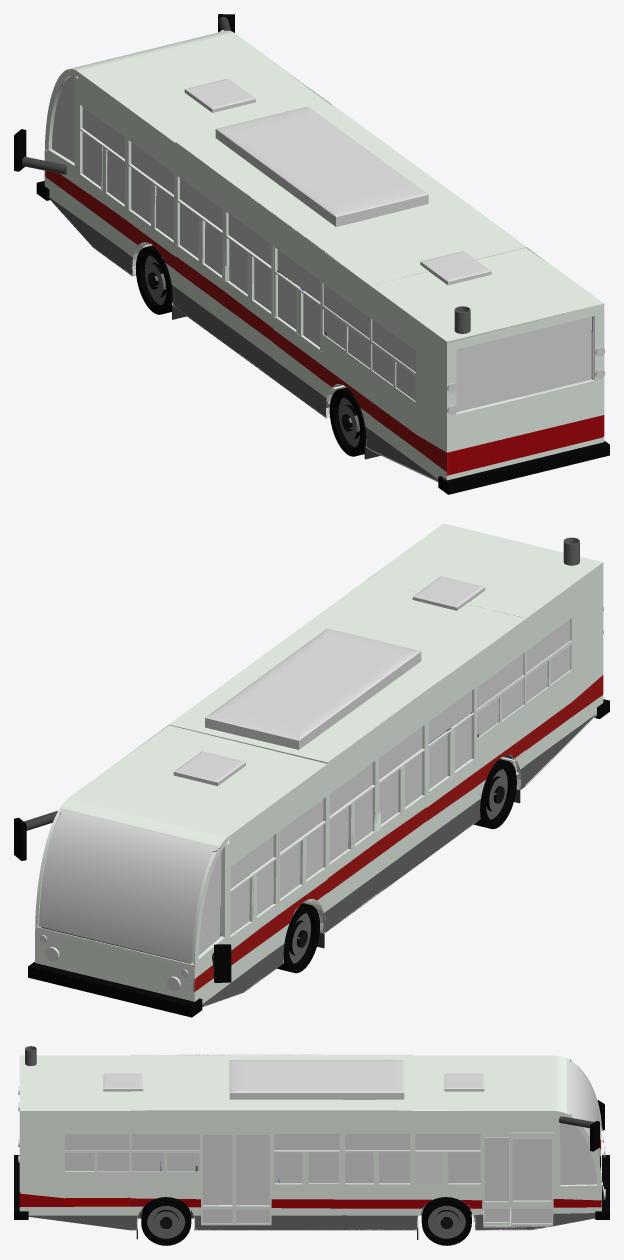
The model's file is bUS6.fbx.
3 renders of one model, top to bottom at view 1: azimuth 30°, elevation 25°; view 2: azimuth 150°, elevation 25°; view 3: azimuth 270°, elevation 25°, orthographic. The views are drawn at different scales.
Visible parts, largest first — view 1: Cube.081, Cube.092, Cube.096, Cube.080, Cube.004, Cube.083, Cube.021, Cylinder, Cube.003, Cube.087, Cube.095, Cube.091 (+5 smaller); view 2: Cube.081, Cube.096, Cube.092, Cube.084, Cube.080, Cube.004, Cube.091, Cube.021, Cylinder, Cube.001, Cube.087, Cube.007 (+5 smaller); view 3: Cube.081, Cube.080, Cube.096, Cube.004, Cube.091, Cylinder, Cube.085, Cube.082, Cube.073, Cube.028, Cube.084, door1 (+14 smaller).
Part boxes in pixels (<box>): Cube.081: <box>127,69,604,480</box>; Cube.092: <box>45,31,604,459</box>; Cube.096: <box>69,30,602,340</box>; Cube.080: <box>82,107,593,400</box>; Cube.004: <box>215,106,428,226</box>; Cube.083: <box>456,317,591,411</box>; Cube.021: <box>44,170,448,472</box>; Cylinder: <box>135,245,366,456</box>; Cube.003: <box>438,441,609,494</box>; Cube.087: <box>180,203,271,311</box>; Cube.095: <box>45,104,603,378</box>; Cube.091: <box>44,30,282,207</box>; Cube.081: <box>119,523,603,948</box>; Cube.096: <box>46,524,601,932</box>; Cube.092: <box>37,562,603,1006</box>; Cube.084: <box>38,808,220,964</box>; Cube.080: <box>230,619,570,934</box>; Cube.004: <box>205,628,421,749</box>; Cube.091: <box>35,762,260,1001</box>; Cube.021: <box>193,675,603,991</box>; Cylinder: <box>277,759,516,973</box>; Cube.001: <box>28,961,202,1017</box>; Cube.087: <box>329,753,421,862</box>; Cube.007: <box>173,751,245,786</box>; Cube.081: <box>19,1054,483,1239</box>; Cube.080: <box>65,1133,409,1223</box>; Cube.096: <box>19,1055,587,1230</box>; Cube.004: <box>229,1060,404,1099</box>; Cube.091: <box>483,1057,602,1226</box>; Cylinder: <box>141,1197,471,1245</box>; Cube.085: <box>512,1139,551,1200</box>; Cube.082: <box>484,1138,509,1222</box>; Cube.073: <box>559,1116,596,1184</box>; Cube.028: <box>63,1184,130,1206</box>; Cube.084: <box>567,1058,599,1163</box>; door1: <box>510,1132,553,1226</box>.
Size of the model in its own units: 4102 by 3744 by 13451.
